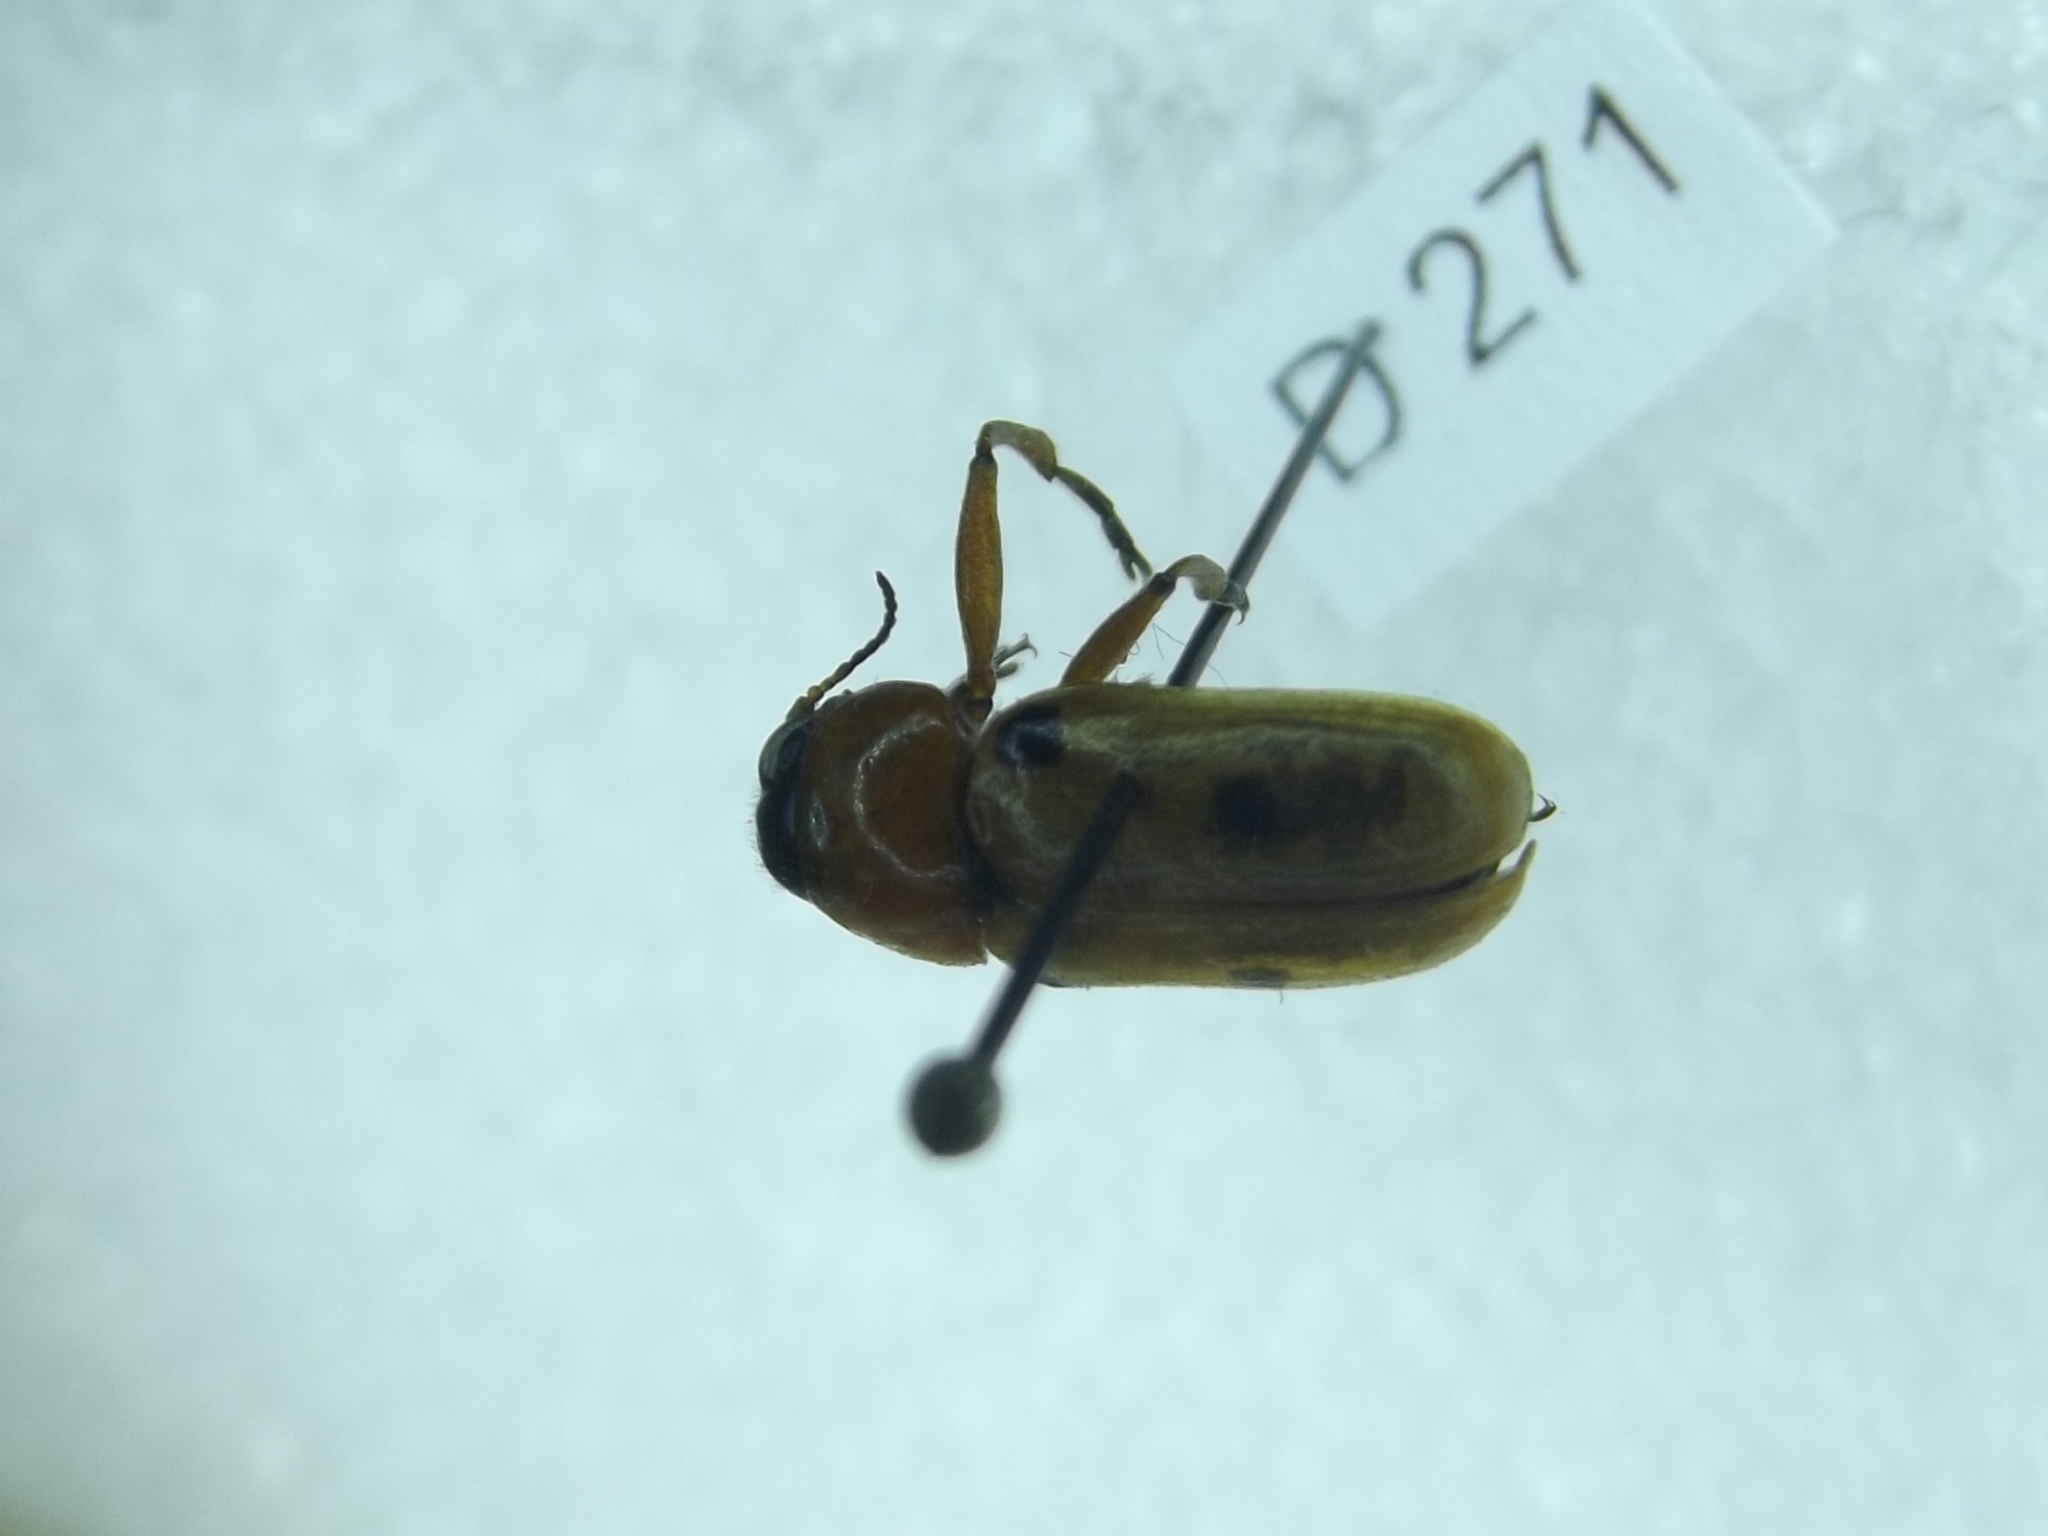Tituboea_macropus: (734, 402, 1564, 1016)
